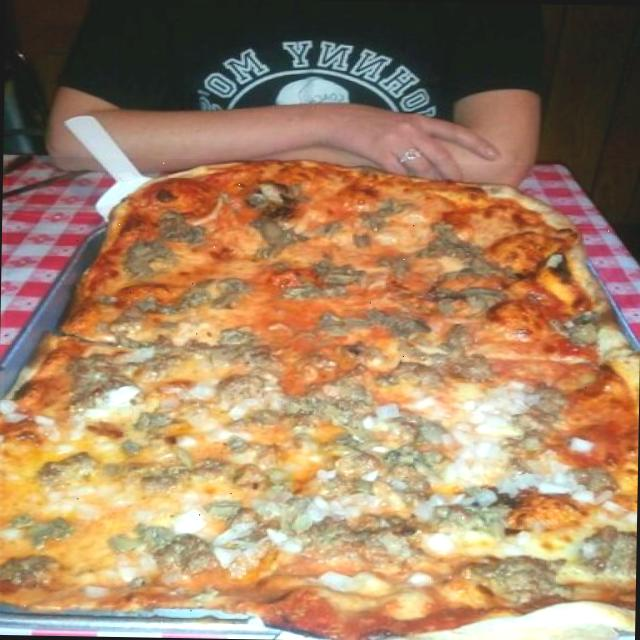pizza: (0, 161, 639, 640)
